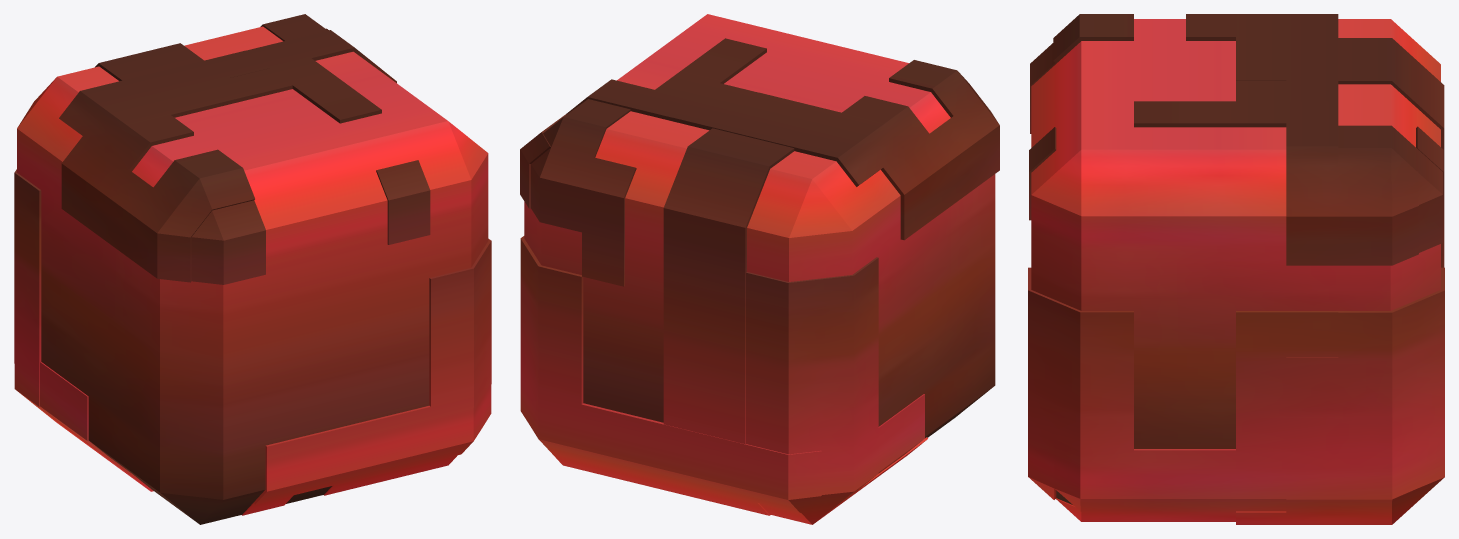
Rendered from CyberPunkCubeShapeD.002.glb.
3 views of the same model, side by side, from view 1: azimuth 30°, elevation 25°; view 2: azimuth 150°, elevation 25°; view 3: azimuth 270°, elevation 25° (orthographic). The views are drawn at different scales.
Visible parts, largest first — view 1: CyberPunkCubeShapeD.002; view 2: CyberPunkCubeShapeD.002; view 3: CyberPunkCubeShapeD.002.
Part boxes in pixels (box(x1,y1,x2,y2)): CyberPunkCubeShapeD.002: box(14, 14, 491, 524); CyberPunkCubeShapeD.002: box(520, 14, 999, 524); CyberPunkCubeShapeD.002: box(1028, 14, 1444, 524).
Size of what is drawn, in the model's own units: 0.7775 by 0.7766 by 0.7741.
Materials: 1 (1 with a texture image).
